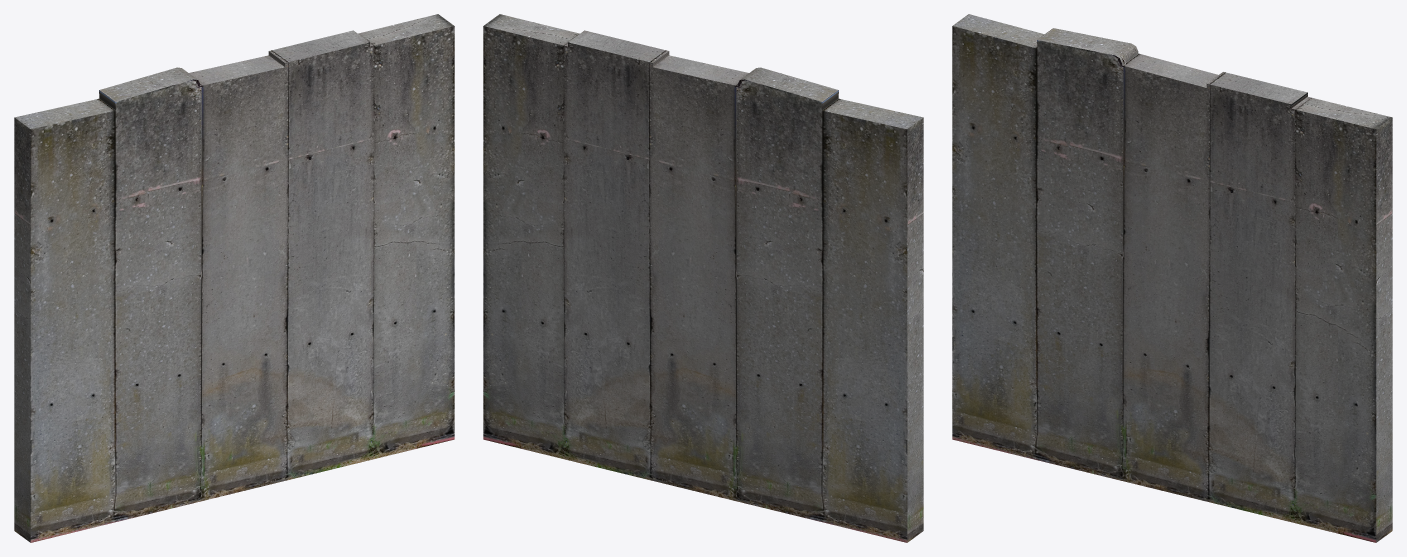
The model's file is c3_barrier3.fbx.
The picture shows the model from 3 angles, left to right: view 1: azimuth 30°, elevation 25°; view 2: azimuth 150°, elevation 25°; view 3: azimuth 330°, elevation 25°; orthographic projection.
Visible parts, largest first — view 1: Mesh; view 2: Mesh; view 3: Mesh.
Part boxes in pixels (left/top/right/bottom): Mesh: left=14, top=14, right=454, bottom=542; Mesh: left=483, top=14, right=923, bottom=542; Mesh: left=952, top=14, right=1392, bottom=542.
Bounding box in the file's own units: 300 × 287 × 20.07.
